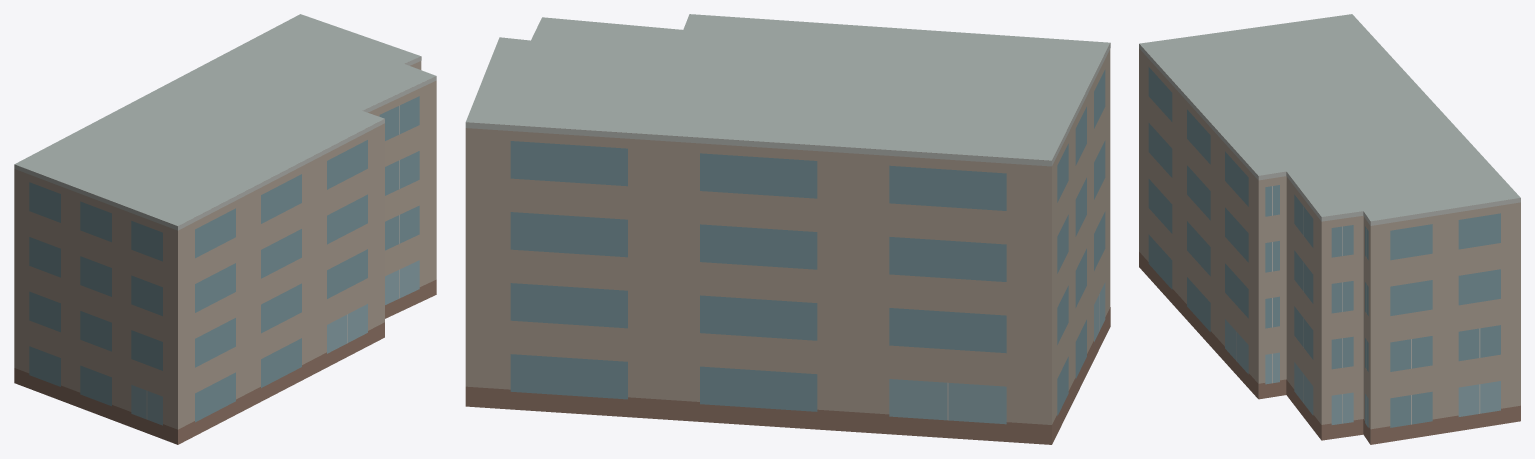
The model's file is survey-upis-32747010.glb.
3 renders of one model, left to right at view 1: azimuth 30°, elevation 25°; view 2: azimuth 150°, elevation 25°; view 3: azimuth 270°, elevation 25°, orthographic. The views are drawn at different scales.
Parts seen in each view (by area): view 1: survey-upis-32747010.tmp; view 2: survey-upis-32747010.tmp; view 3: survey-upis-32747010.tmp.
Boxes of the visible parts, x1,y1,x2,y2 form: survey-upis-32747010.tmp: (14, 14, 436, 444); survey-upis-32747010.tmp: (465, 14, 1110, 444); survey-upis-32747010.tmp: (1139, 14, 1520, 444).
Size of the model in its own units: 23.7 by 11.9 by 18.43.
